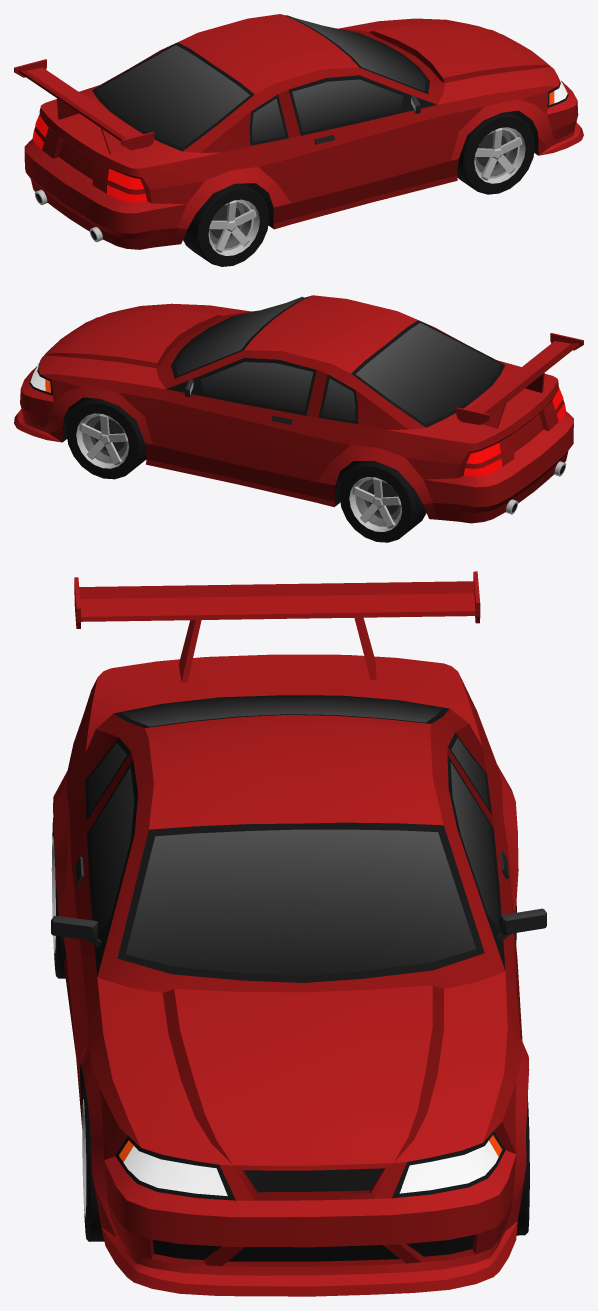
File: Car_145.glb
3 renders of one model, top to bottom at view 1: azimuth 30°, elevation 25°; view 2: azimuth 150°, elevation 25°; view 3: azimuth 270°, elevation 25°, orthographic. The views are drawn at different scales.
Visible parts, largest first — view 1: Car_145, wheel_3_Car_145_Wheel_2R, wheel_1_Car_145_Wheel_1R; view 2: Car_145, wheel_2_Car_145_Wheel_2L, wheel_0_Car_145_Wheel_1L; view 3: Car_145, wheel_1_Car_145_Wheel_1R.
Part boxes in pixels (x1,y1,x2,y2): Car_145: [14, 14, 583, 249]; wheel_3_Car_145_Wheel_2R: [183, 183, 269, 266]; wheel_1_Car_145_Wheel_1R: [457, 111, 535, 194]; Car_145: [14, 295, 583, 523]; wheel_2_Car_145_Wheel_2L: [339, 461, 426, 542]; wheel_0_Car_145_Wheel_1L: [66, 398, 146, 479]; Car_145: [51, 571, 546, 1296]; wheel_1_Car_145_Wheel_1R: [82, 1079, 104, 1241].
Bounding box in the file's own units: 4.71 × 1.39 × 2.06.
Materials: 2 (2 with a texture image).
